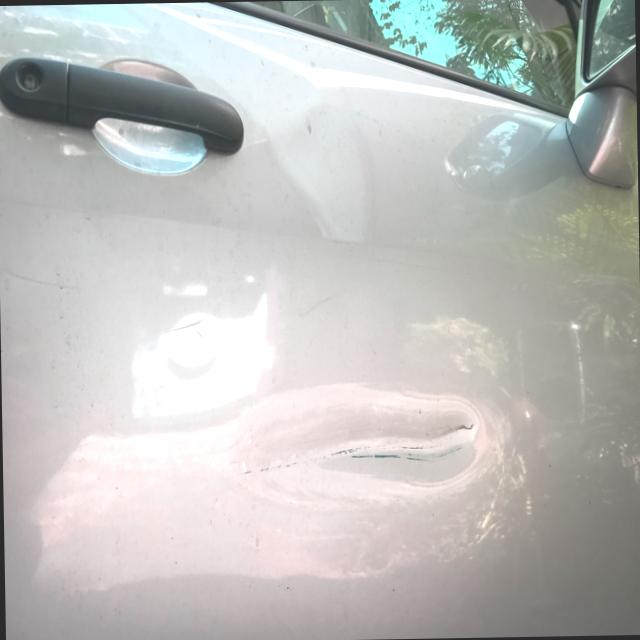Cabossage: (355, 389, 483, 523)
Rayure: (234, 415, 490, 486)
